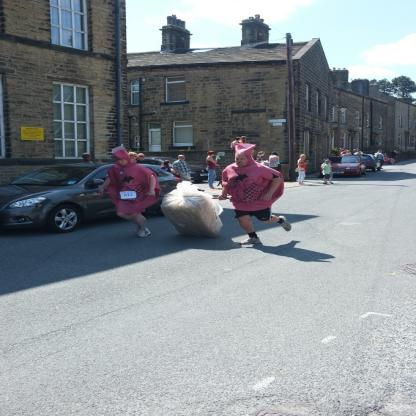Car: (0, 158, 182, 232), (325, 154, 383, 178)
